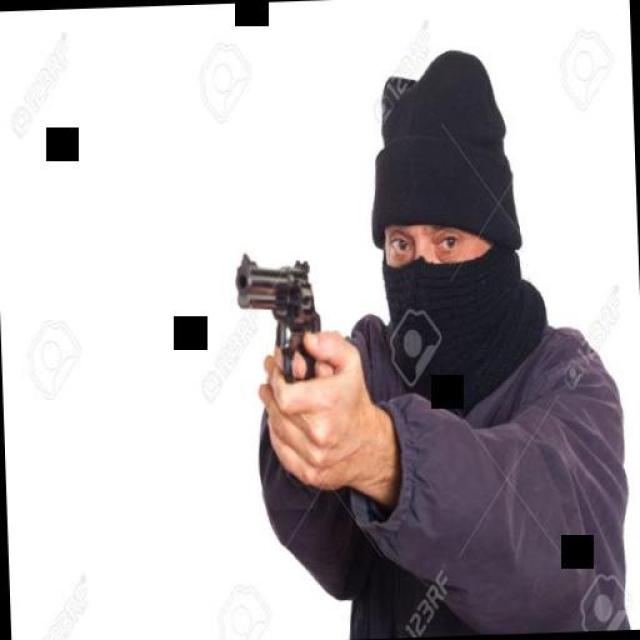gun: (220, 238, 334, 382)
